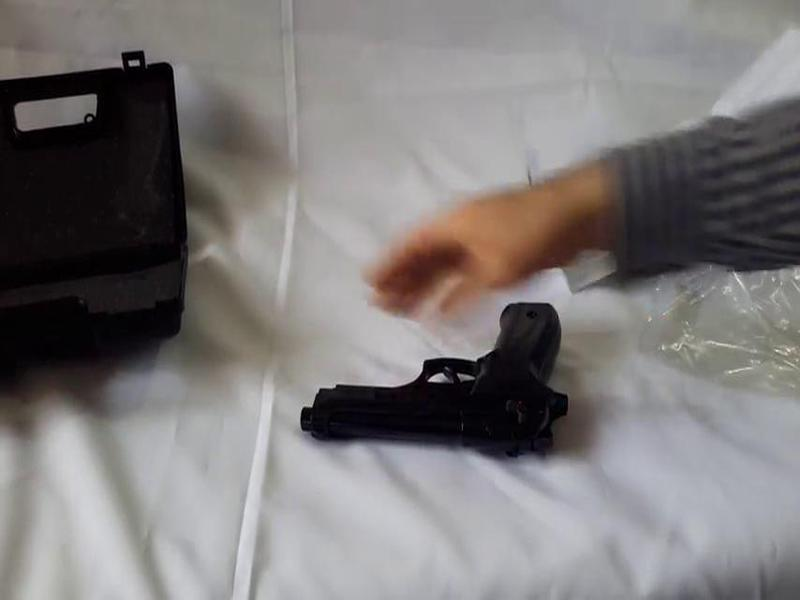Pistola: (282, 306, 587, 450)
